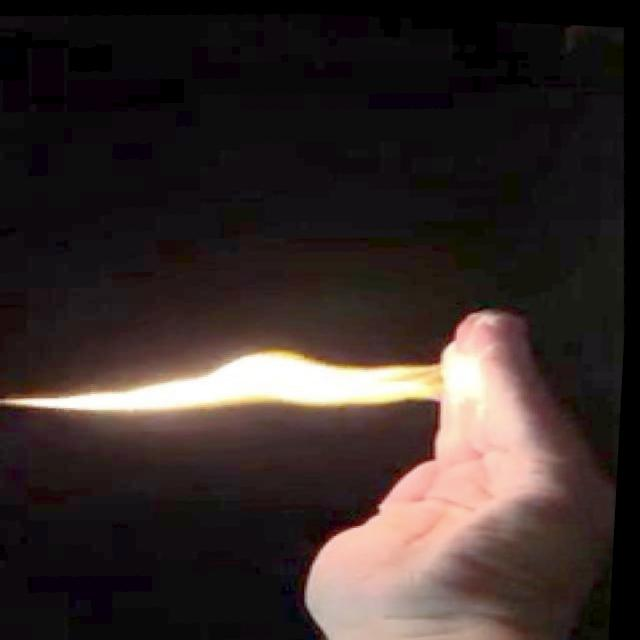helmet: (0, 335, 518, 447)
